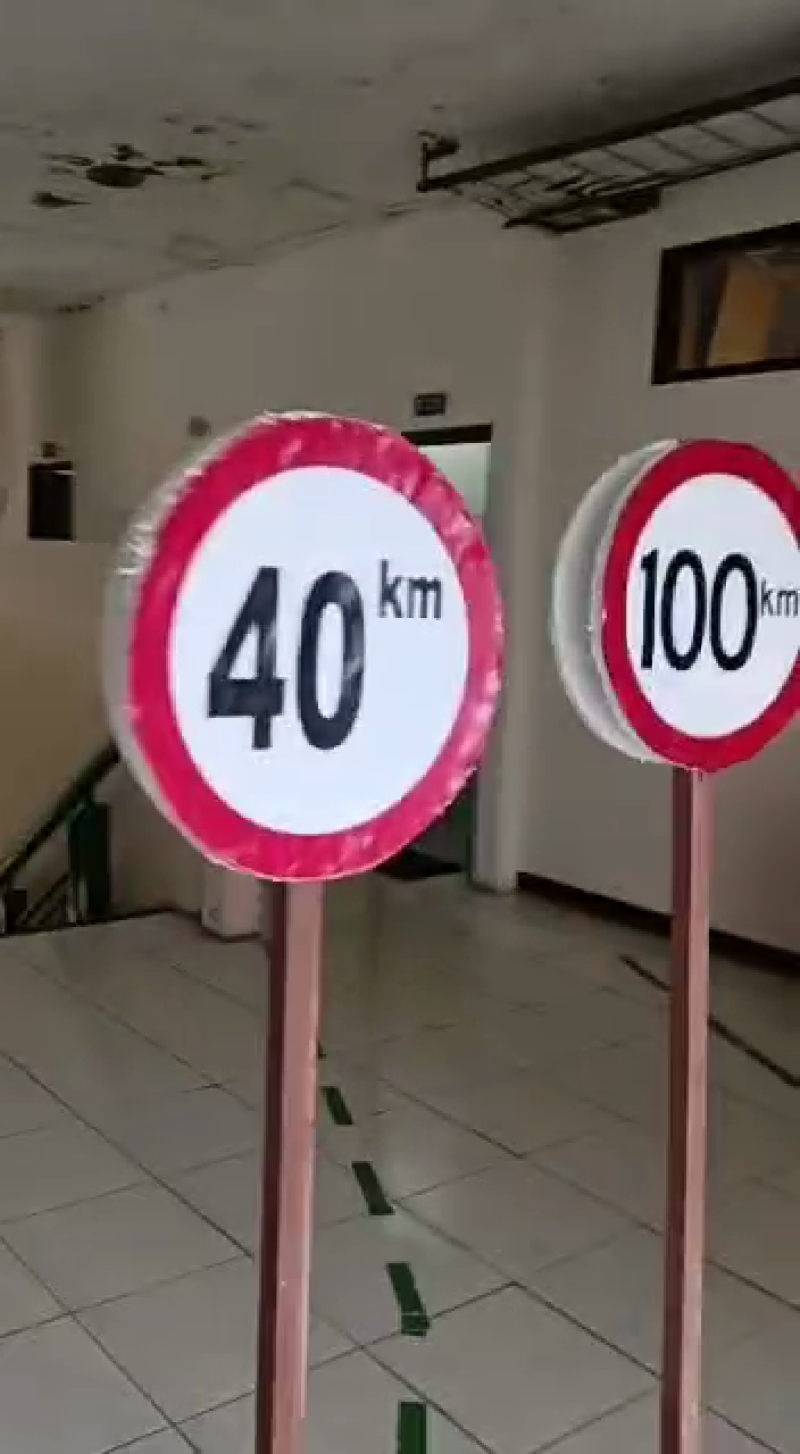batas maksimal 100kmperjam: (587, 421, 800, 777)
batas maksimal 40kmperjam: (113, 402, 510, 890)
